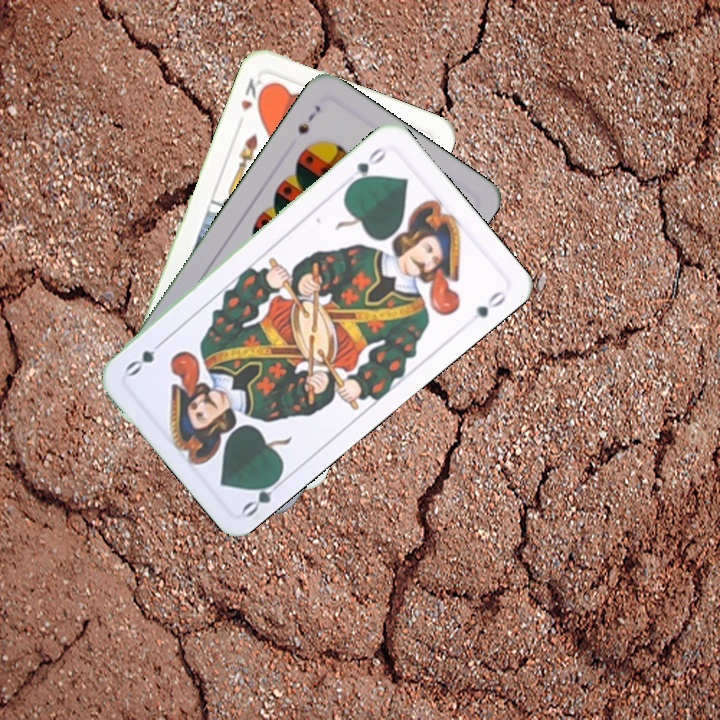GO: (238, 471, 289, 520), (344, 143, 391, 189)
HK: (237, 74, 269, 114)
S7: (293, 101, 324, 137)
